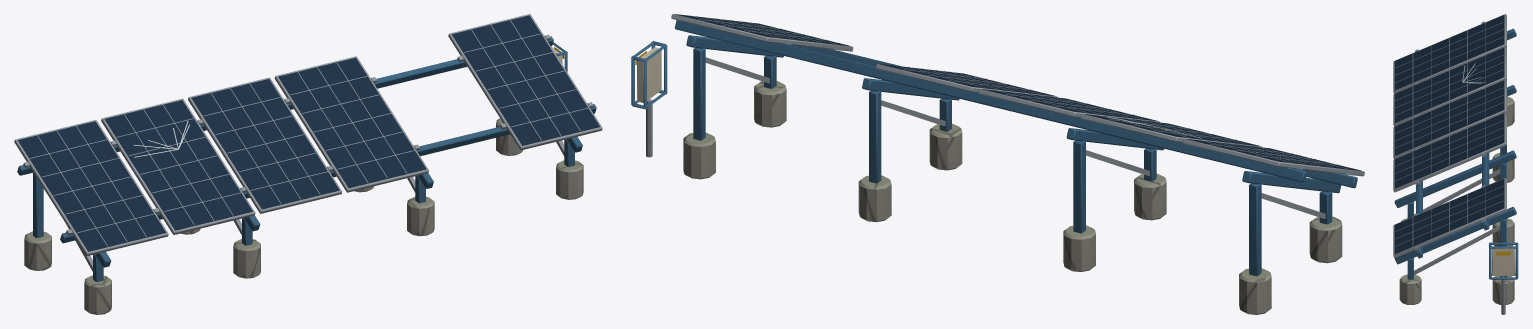
Rendered from solar_farm_row.glb.
The picture shows the model from 3 angles, left to right: view 1: azimuth 30°, elevation 25°; view 2: azimuth 150°, elevation 25°; view 3: azimuth 270°, elevation 25°; orthographic projection. The views are drawn at different scales.
Parts seen in each view (by area): view 1: solar_farm_row; view 2: solar_farm_row; view 3: solar_farm_row.
Boxes of the visible parts, x1,y1,x2,y2 form: solar_farm_row: (14, 14, 602, 314); solar_farm_row: (631, 14, 1364, 314); solar_farm_row: (1393, 14, 1518, 314).
Size of the model in its own units: 6.74 by 1.53 by 1.71.
9 materials, 9 textured.
